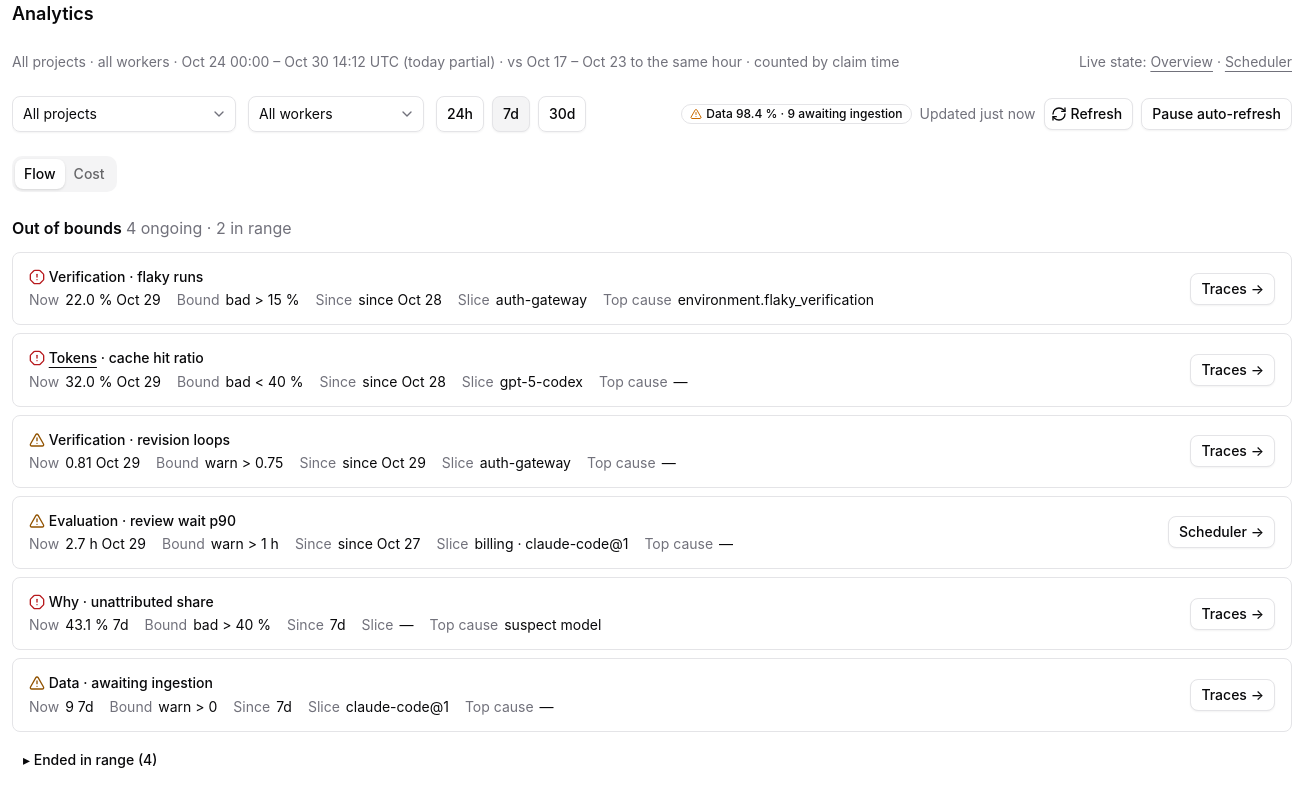
Test: AnalyticsScreen › writes the project to the URL and reads again
The width and height of the screenshot is (1304, 800).
Expected: the text "All projects · all workers · Oct 24 00:00 – Oct 30 14:12 UTC (today partial) · vs Oct 17 – Oct 23 to the same hour · cou" is shown, [12, 53, 899, 70]
Click the dropdown labelled "project". click: (124, 114)
box: [12, 96, 236, 132]
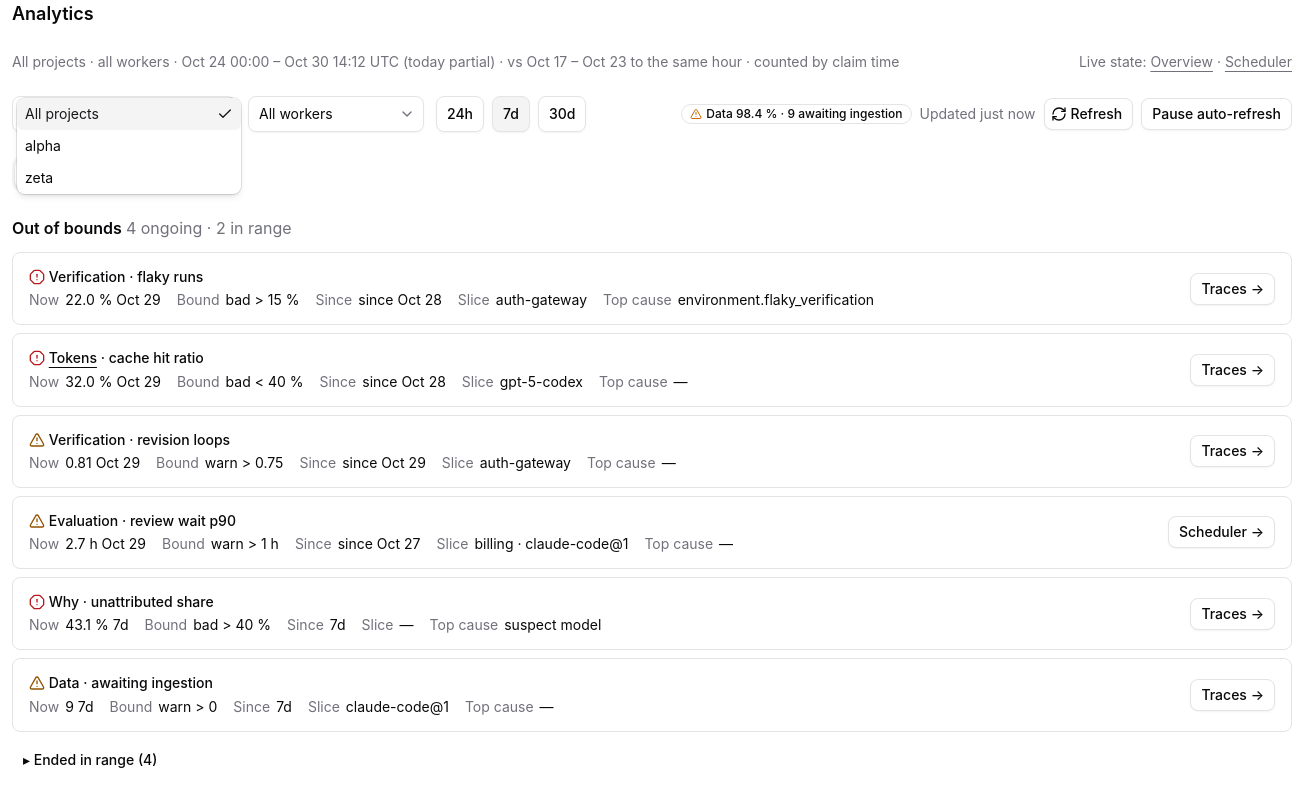
Click the option "alpha". click: (43, 146)
box: [25, 137, 61, 154]
(page scrolled)
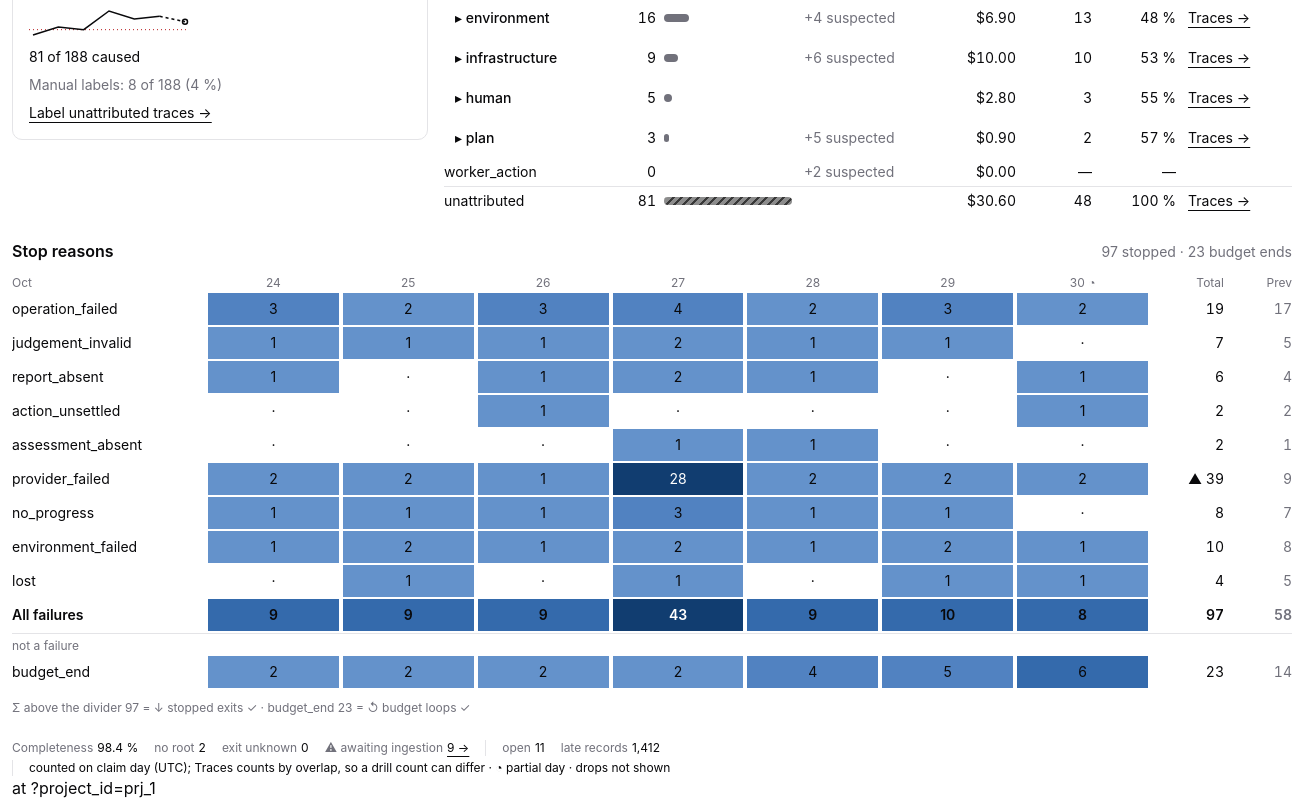
Expected: the text "at ?project_id=prj_1" is shown, [12, 778, 156, 798]
